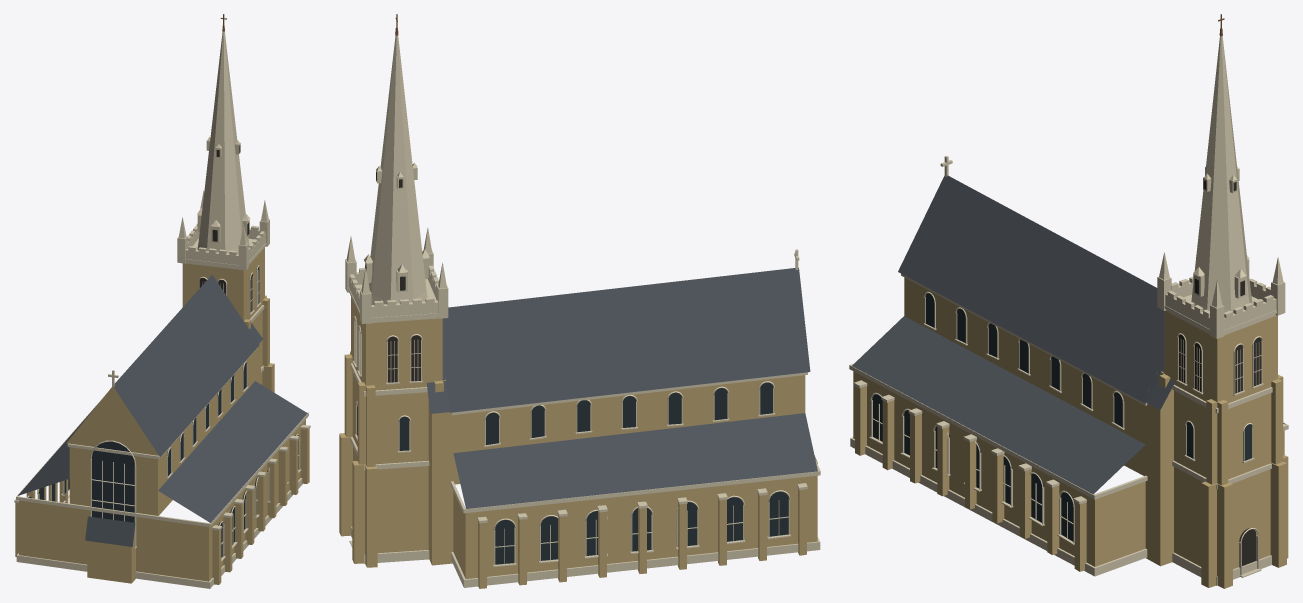
File: st_james_sussex_gardens.glb
The picture shows the model from 3 angles, left to right: view 1: azimuth 30°, elevation 25°; view 2: azimuth 150°, elevation 25°; view 3: azimuth 270°, elevation 25°; orthographic projection. The views are drawn at different scales.
Size of the model in its own units: 41.86 by 53.9 by 39.24.
